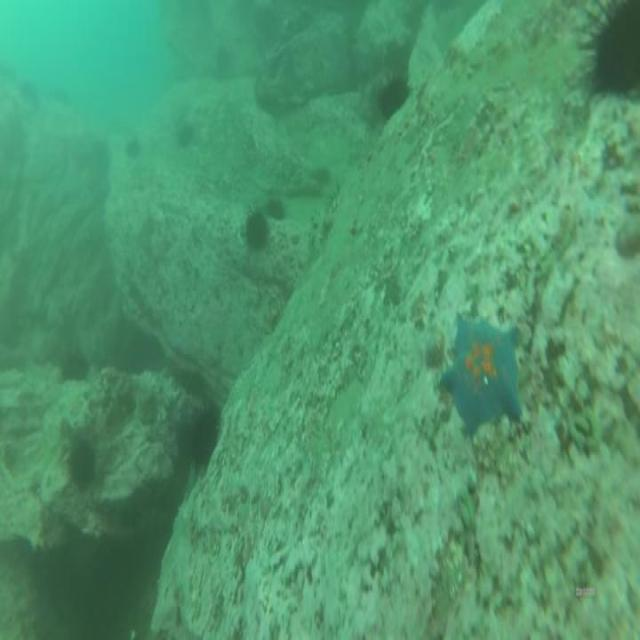echinus: (594, 1, 640, 94), (185, 414, 215, 460), (69, 447, 95, 490), (378, 79, 406, 117), (244, 208, 266, 250), (62, 354, 88, 384), (268, 196, 284, 218), (178, 122, 191, 145), (214, 46, 228, 66), (125, 139, 138, 160)
starfish: (440, 310, 524, 431)
